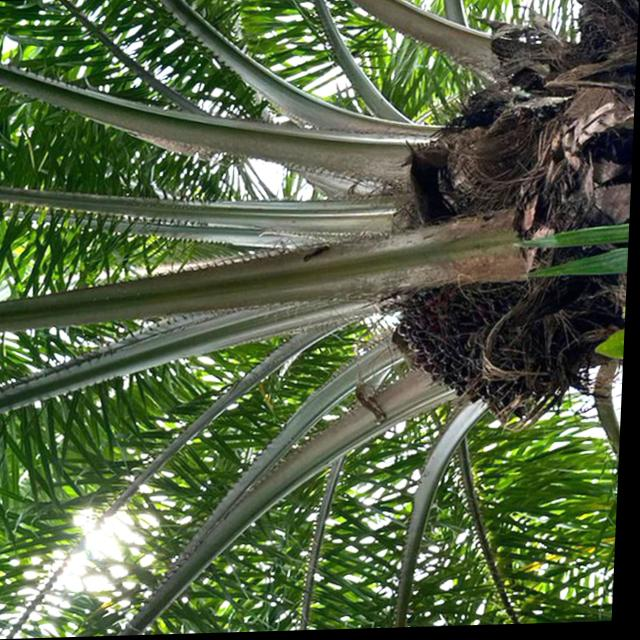almost: (387, 280, 558, 427)
